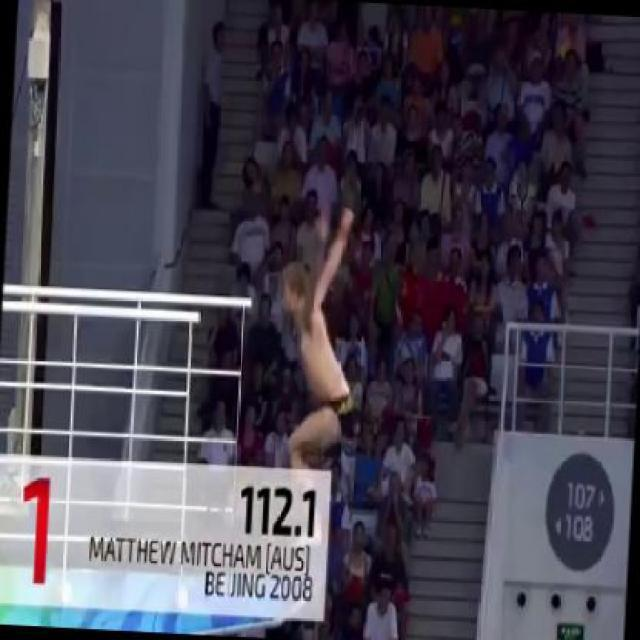non-fight: (270, 199, 370, 473)
